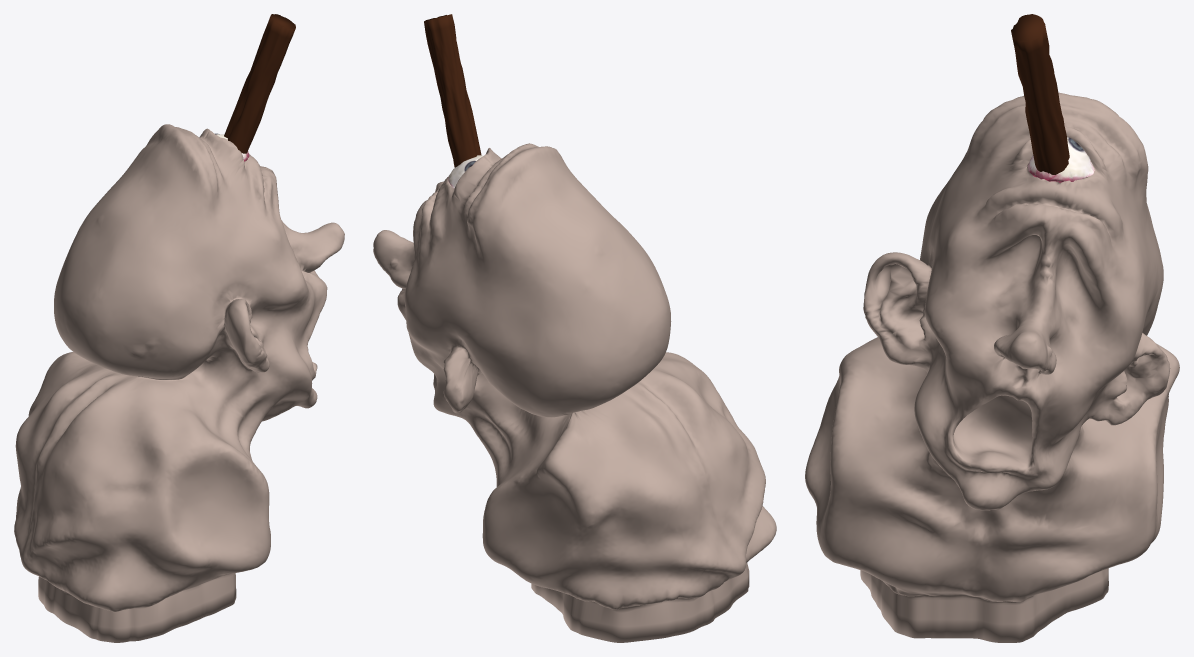
Rendered from polypheme_draco.glb.
3 views of the same model, side by side, from view 1: azimuth 30°, elevation 25°; view 2: azimuth 150°, elevation 25°; view 3: azimuth 270°, elevation 25° (orthographic). The views are drawn at different scales.
Parts seen in each view (by area): view 1: Statue; view 2: Statue; view 3: Statue.
Boxes of the visible parts, x1,y1,x2,y2 form: Statue: (14,14,344,642); Statue: (373,14,776,642); Statue: (805,14,1179,642).
Size of the model in its own units: 0.2094 by 0.3147 by 0.1584.
3 materials, 1 textured.
